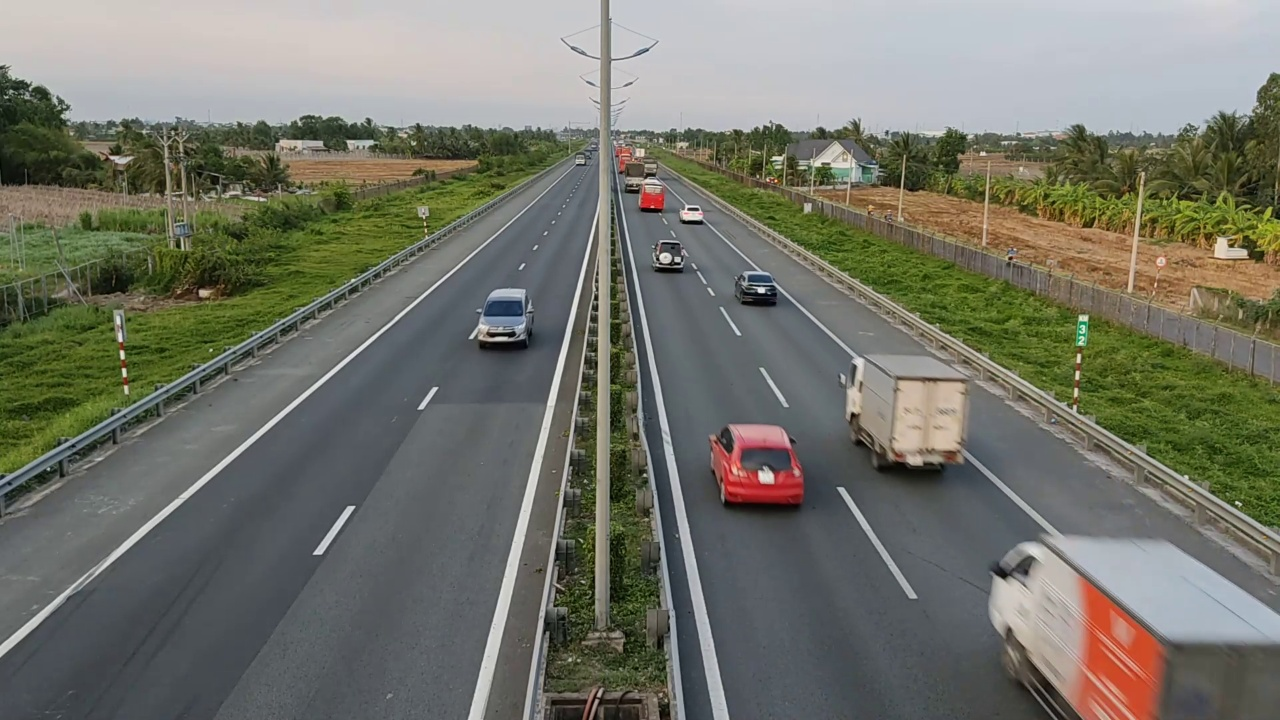car: (707, 422, 807, 507), (474, 286, 535, 350), (733, 270, 779, 305), (651, 238, 685, 271), (679, 204, 705, 224)
truck: (987, 529, 1275, 716), (839, 351, 973, 473)
